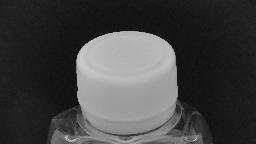Broken Cap: (62, 26, 190, 140)
